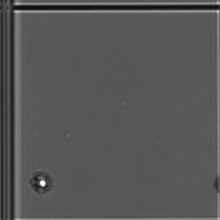Living Cell: (28, 172, 54, 199)
